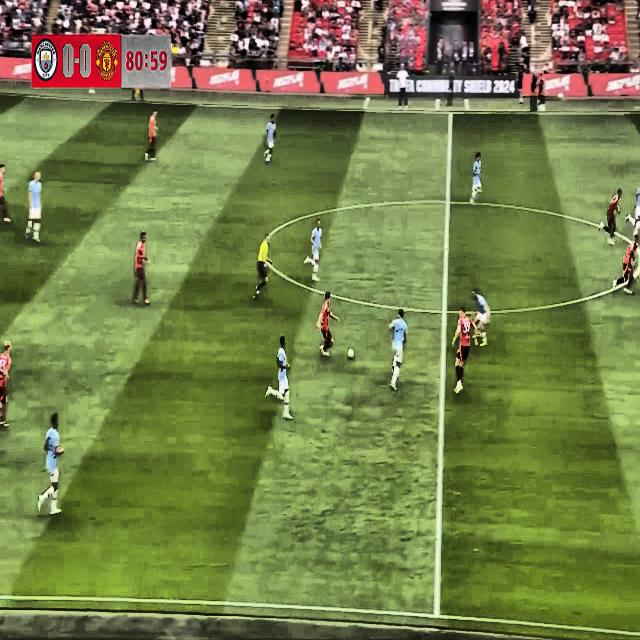ball: (345, 344, 355, 368)
players: (35, 407, 65, 518), (264, 328, 296, 428), (449, 301, 479, 399), (23, 164, 46, 247), (386, 306, 408, 392), (596, 187, 624, 251), (468, 285, 493, 355), (314, 288, 338, 360), (613, 229, 638, 296), (133, 226, 153, 306), (304, 216, 325, 286), (260, 103, 280, 174), (469, 144, 487, 215), (1, 342, 13, 441), (0, 157, 13, 236), (142, 107, 160, 163), (626, 180, 640, 240)
refree: (253, 229, 276, 308)
